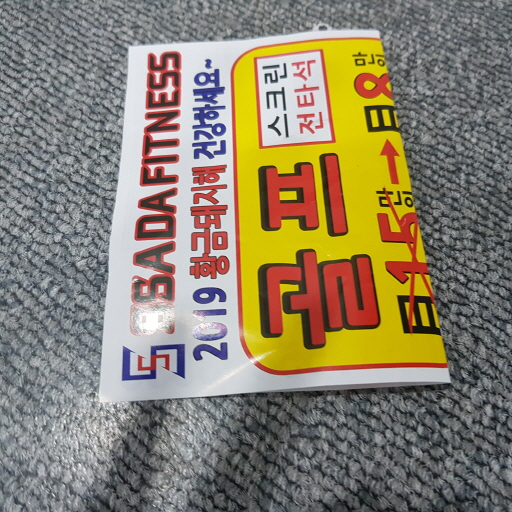Paper_2: (92, 23, 453, 416)
